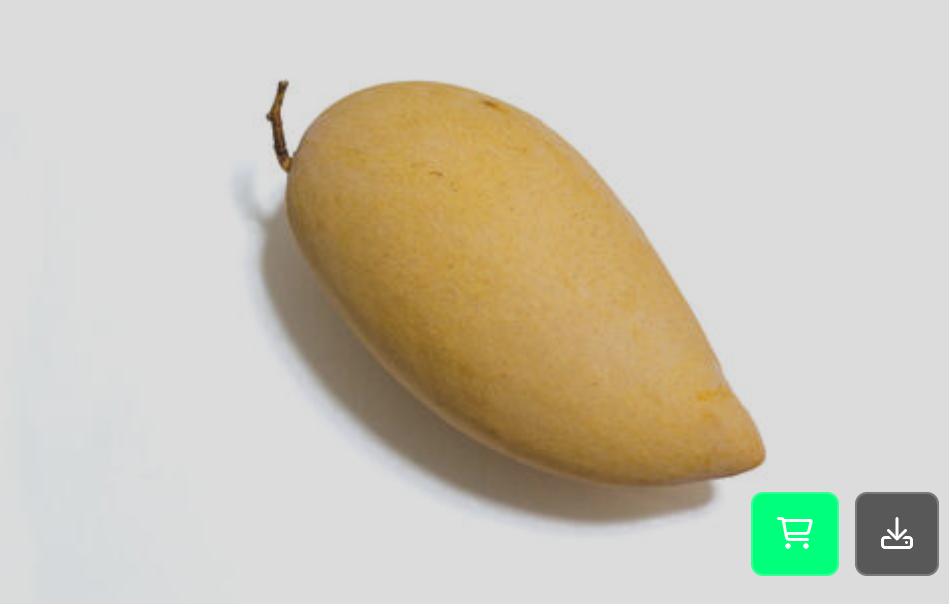mango: (289, 80, 774, 489)
